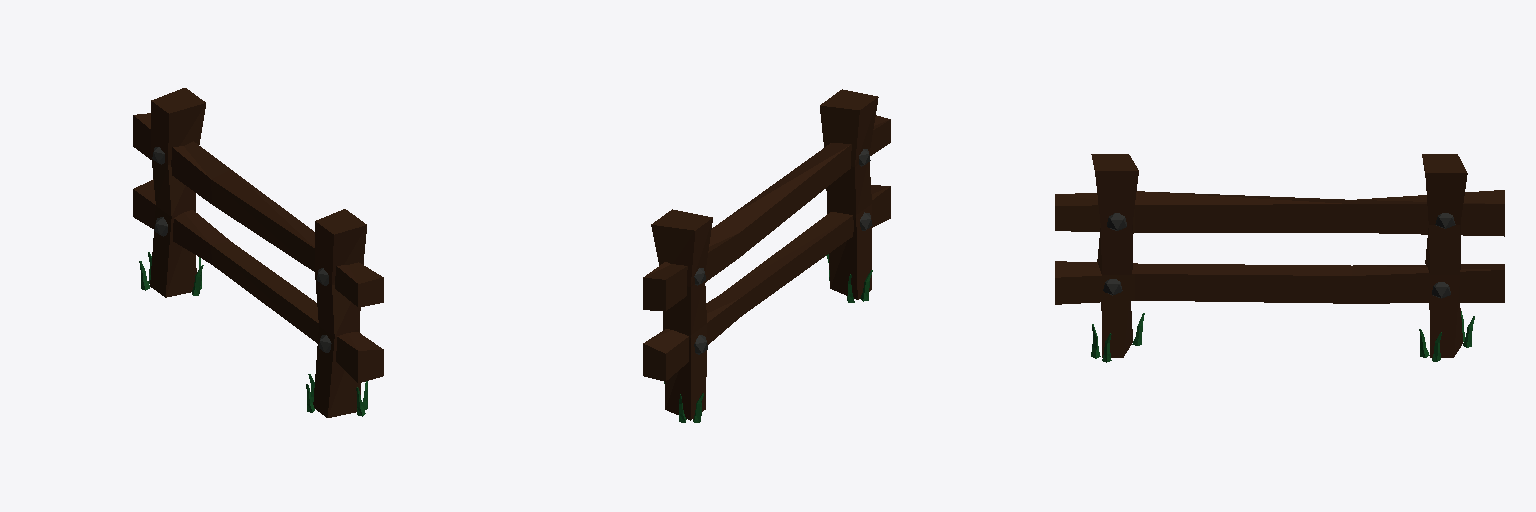
File: fence.obj
3 views of the same model, side by side, from view 1: azimuth 30°, elevation 25°; view 2: azimuth 150°, elevation 25°; view 3: azimuth 270°, elevation 25° (orthographic).
Parts seen in each view (by area): view 1: Cube.007; view 2: Cube.007; view 3: Cube.007.
Boxes of the visible parts, box(x1,y1,x2,y2) form: Cube.007: box(133, 88, 383, 417); Cube.007: box(643, 89, 890, 422); Cube.007: box(1055, 154, 1504, 362).
Size of the model in its own units: 1.04 by 3.45 by 7.47.